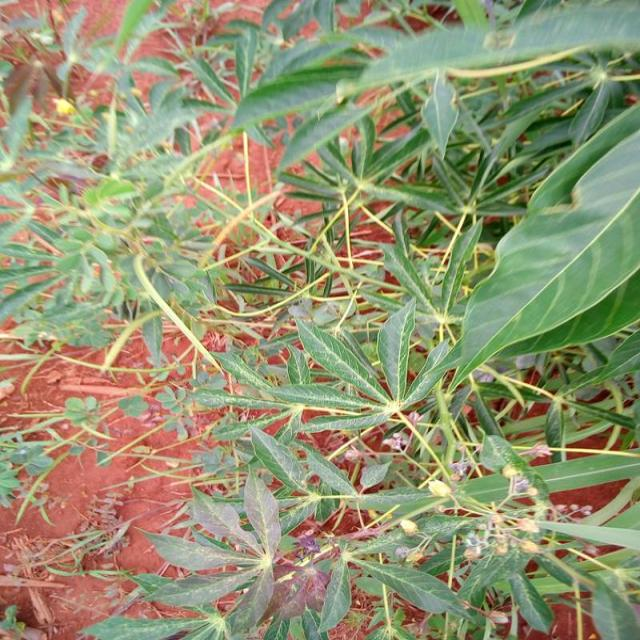cassava leaf: (448, 100, 638, 390)
